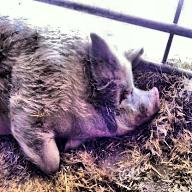boar: (0, 16, 159, 174)
